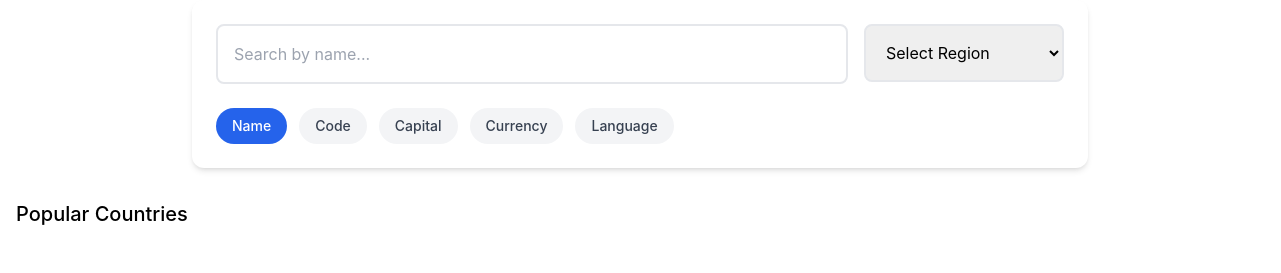
Test: SearchPage › shows error message on API failure
This screenshot has width=1281, height=273.
Type "test" into the field with placeholder "Search by name..." at (532, 54), box [216,24,848,84]
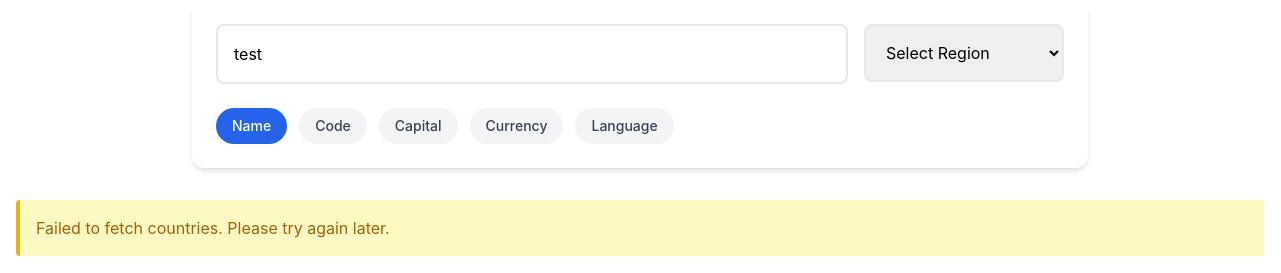
Now the text "Failed to fetch countries. Please try again later." is shown, box [16,200,1264,256]
